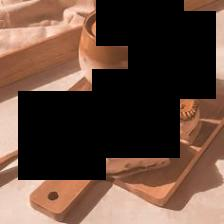brown: (1, 78, 103, 165), (80, 5, 166, 93), (93, 123, 171, 178)
